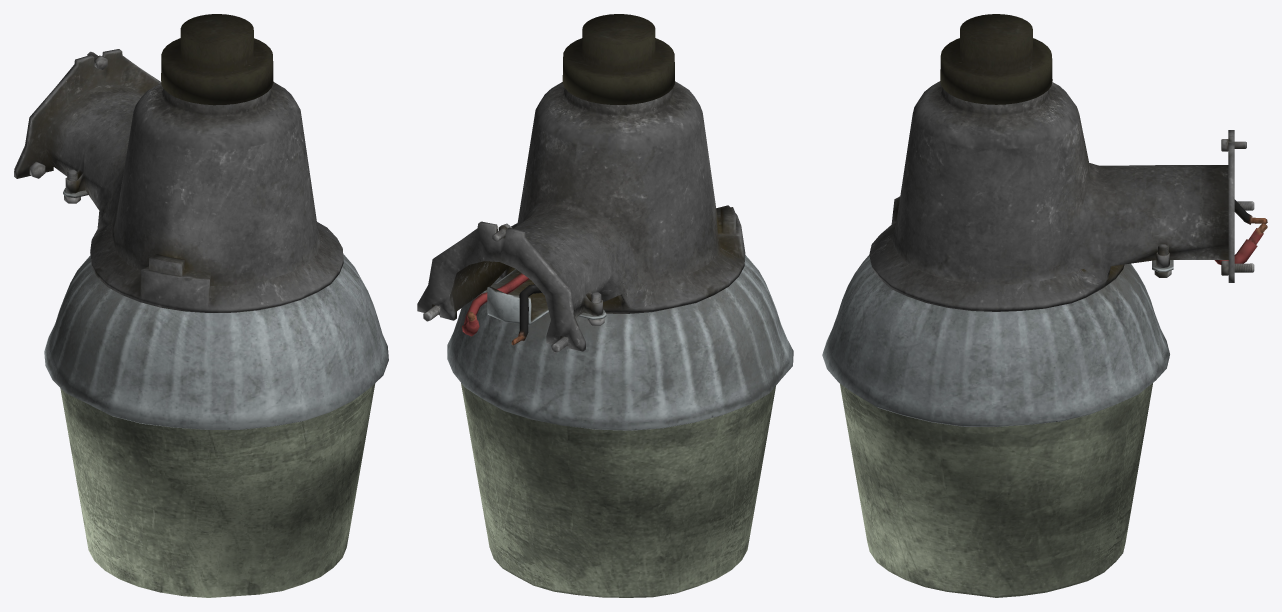
Rendered from security_light.glb.
3 renders of one model, left to right at view 1: azimuth 30°, elevation 25°; view 2: azimuth 150°, elevation 25°; view 3: azimuth 270°, elevation 25°, orthographic.
Parts seen in each view (by area): view 1: security_light, security_light_glass; view 2: security_light, security_light_glass; view 3: security_light, security_light_glass.
Boxes of the visible parts, x1,y1,x2,y2 form: security_light: [14, 14, 388, 429]; security_light_glass: [60, 383, 375, 597]; security_light: [417, 14, 793, 430]; security_light_glass: [461, 383, 775, 597]; security_light: [822, 14, 1267, 426]; security_light_glass: [840, 383, 1152, 597].
Size of the model in its own units: 0.3232 by 0.531 by 0.4172.
2 materials, 2 textured.
